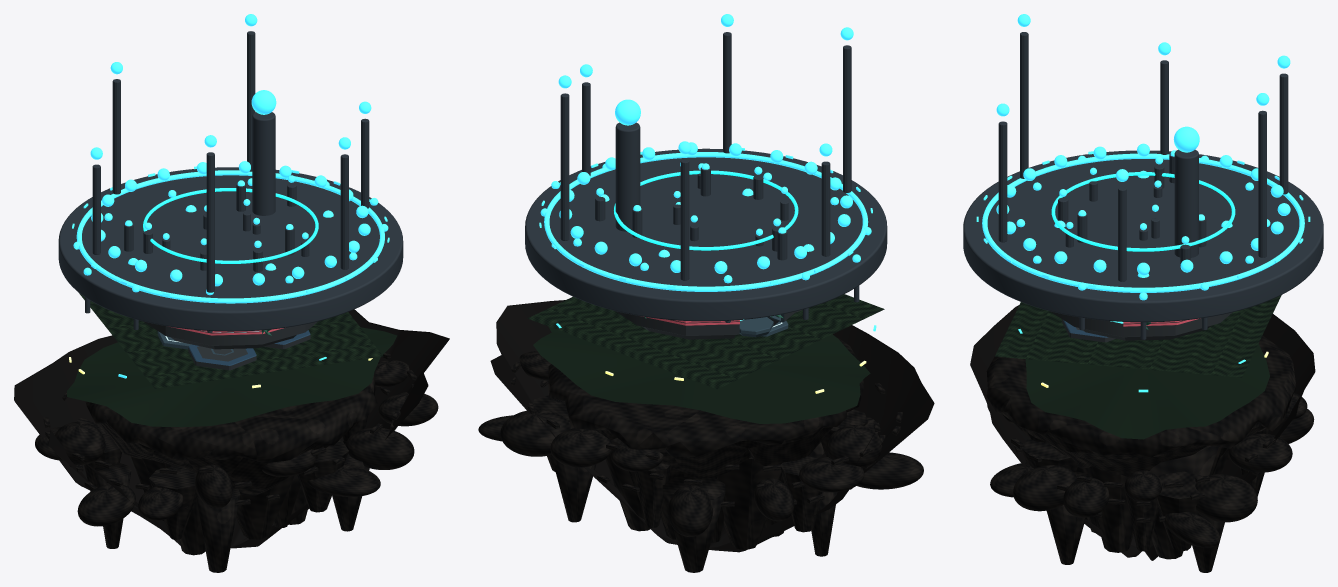
3 renders of one model, left to right at view 1: azimuth 30°, elevation 25°; view 2: azimuth 150°, elevation 25°; view 3: azimuth 270°, elevation 25°, orthographic. The views are drawn at different scales.
Parts seen in each view (by area): view 1: AI_PM_versions_round_deck, AI_PM_versions_terrain_cap, AI_PM_versions_island_Floating_Island_01_Art, AI_PM_versions_organic_rock_shell, AI_PM_versions_terrain_surface_Terrain_Art, AI_PM_versions_outer_light_ring, AI_PM_versions_control_tower, AI_PM_versions_station_ring_Aero_Station_Ring_Art, AI_PM_versions_cliff_boulder_02, AI_PM_versions_cliff_tooth_05, AI_PM_versions_hex_field_Aero_Ground_Hexagons_02_Art, AI_PM_versions_underside_shard_03 (+22 smaller); view 2: AI_PM_versions_round_deck, AI_PM_versions_terrain_cap, AI_PM_versions_island_Floating_Island_01_Art, AI_PM_versions_terrain_surface_Terrain_Art, AI_PM_versions_organic_rock_shell, AI_PM_versions_outer_light_ring, AI_PM_versions_underside_shard_07, AI_PM_versions_station_ring_Aero_Station_Ring_Art, AI_PM_versions_control_tower, AI_PM_versions_cliff_boulder_14, AI_PM_versions_cliff_tooth_11, AI_PM_versions_cliff_boulder_13 (+19 smaller); view 3: AI_PM_versions_round_deck, AI_PM_versions_terrain_cap, AI_PM_versions_island_Floating_Island_01_Art, AI_PM_versions_terrain_surface_Terrain_Art, AI_PM_versions_organic_rock_shell, AI_PM_versions_outer_light_ring, AI_PM_versions_control_tower, AI_PM_versions_cliff_boulder_14, AI_PM_versions_station_ring_Aero_Station_Ring_Art, AI_PM_versions_cliff_boulder_02, AI_PM_versions_underside_shard_01, AI_PM_versions_underside_shard_11 (+19 smaller).
Boxes of the visible parts, box(x1,y1,x2,y2) form: AI_PM_versions_round_deck: box(58, 167, 403, 331); AI_PM_versions_terrain_cap: box(67, 327, 397, 427); AI_PM_versions_island_Floating_Island_01_Art: box(85, 370, 377, 495); AI_PM_versions_organic_rock_shell: box(14, 309, 449, 548); AI_PM_versions_terrain_surface_Terrain_Art: box(78, 292, 383, 388); AI_PM_versions_outer_light_ring: box(76, 170, 384, 303); AI_PM_versions_control_tower: box(252, 112, 275, 215); AI_PM_versions_station_ring_Aero_Station_Ring_Art: box(143, 321, 317, 349); AI_PM_versions_cliff_boulder_02: box(346, 428, 414, 469); AI_PM_versions_cliff_tooth_05: box(196, 488, 240, 572); AI_PM_versions_hex_field_Aero_Ground_Hexagons_02_Art: box(157, 330, 310, 370); AI_PM_versions_underside_shard_03: box(236, 475, 294, 539); AI_PM_versions_round_deck: box(525, 148, 887, 321); AI_PM_versions_terrain_cap: box(533, 326, 870, 423); AI_PM_versions_island_Floating_Island_01_Art: box(548, 334, 863, 480); AI_PM_versions_terrain_surface_Terrain_Art: box(527, 294, 884, 389); AI_PM_versions_organic_rock_shell: box(490, 300, 934, 552); AI_PM_versions_outer_light_ring: box(544, 152, 868, 291); AI_PM_versions_underside_shard_07: box(717, 457, 782, 549); AI_PM_versions_station_ring_Aero_Station_Ring_Art: box(615, 311, 796, 339); AI_PM_versions_control_tower: box(615, 122, 640, 231); AI_PM_versions_cliff_boulder_14: box(500, 409, 573, 456); AI_PM_versions_cliff_tooth_11: box(662, 476, 725, 572); AI_PM_versions_cliff_boulder_13: box(550, 428, 611, 467); AI_PM_versions_round_deck: box(963, 150, 1323, 322); AI_PM_versions_terrain_cap: box(1025, 343, 1269, 439); AI_PM_versions_island_Floating_Island_01_Art: box(986, 335, 1295, 476); AI_PM_versions_terrain_surface_Terrain_Art: box(995, 295, 1281, 377); AI_PM_versions_organic_rock_shell: box(970, 305, 1315, 560); AI_PM_versions_outer_light_ring: box(982, 153, 1304, 292); AI_PM_versions_control_tower: box(1174, 149, 1198, 257); AI_PM_versions_cliff_boulder_14: box(1195, 474, 1257, 522); AI_PM_versions_station_ring_Aero_Station_Ring_Art: box(1050, 311, 1232, 340); AI_PM_versions_cliff_boulder_02: box(1013, 465, 1076, 511); AI_PM_versions_underside_shard_01: box(1082, 466, 1133, 552); AI_PM_versions_underside_shard_11: box(1149, 446, 1218, 559).
Size of the model in its own units: 1.34 by 1.51 by 1.
Materials: 17 (6 with a texture image).
